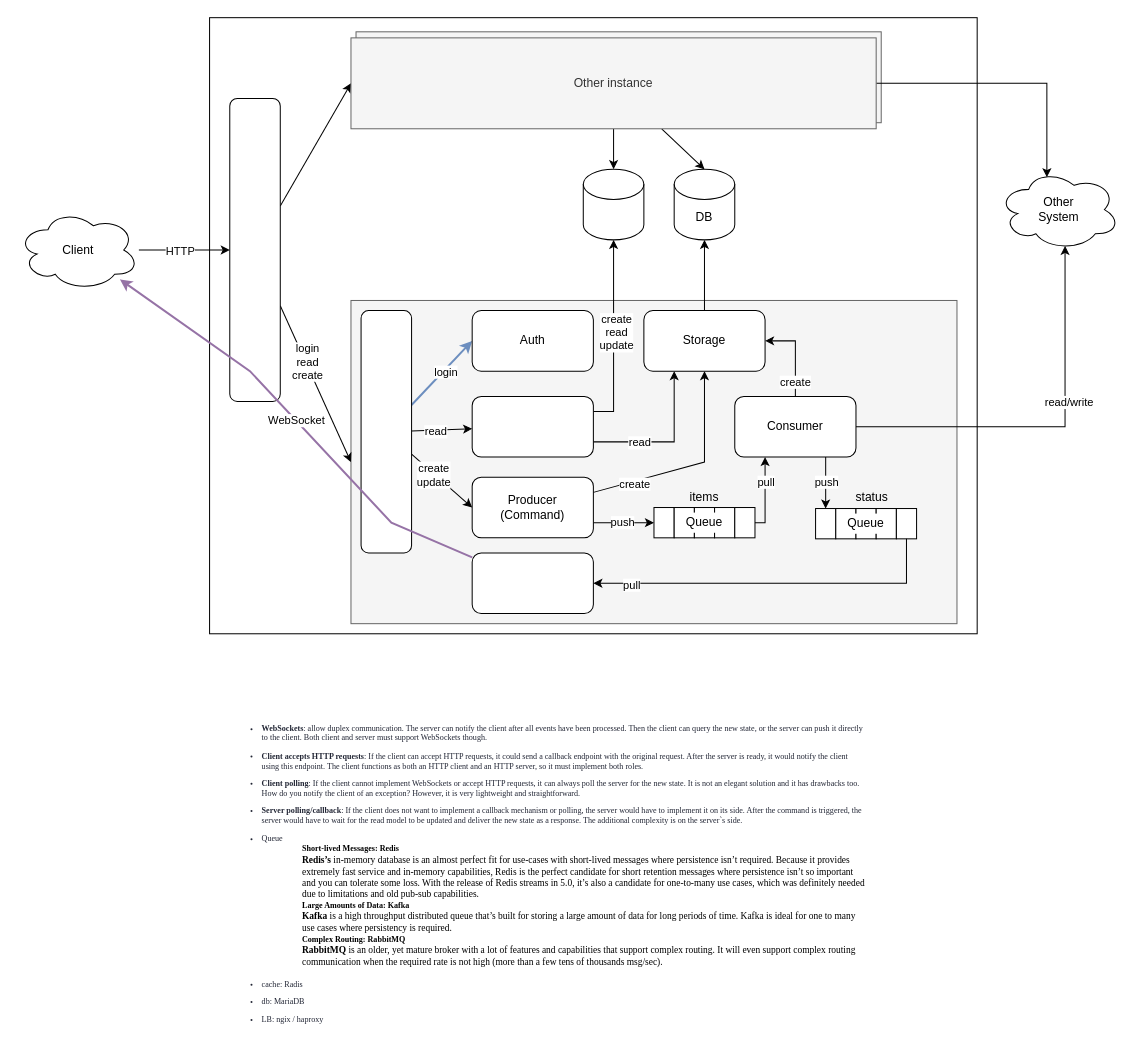
The diagram is 1137 pixels wide and 1061 high, and some of its shapes have lost their labels. Here are the shapes that lost their labels. From the top down, the centre of each, then its label:
[613,204]: Cache
[254,249]: LB (reverse Proxy)
[386,431]: API GTW
[532,426]: Reader (Query)
[532,583]: Notifier
